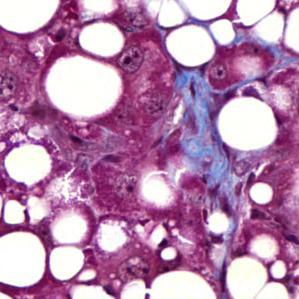steatosis: (217, 93, 280, 151), (6, 141, 53, 188), (76, 21, 127, 59)
